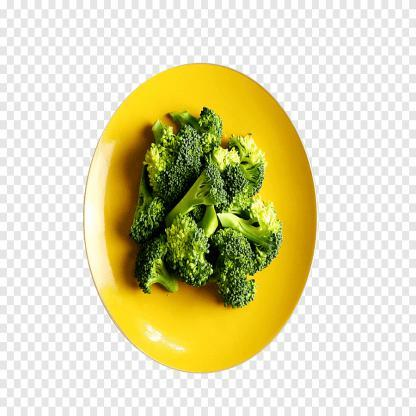broccoli: (130, 107, 284, 308)
